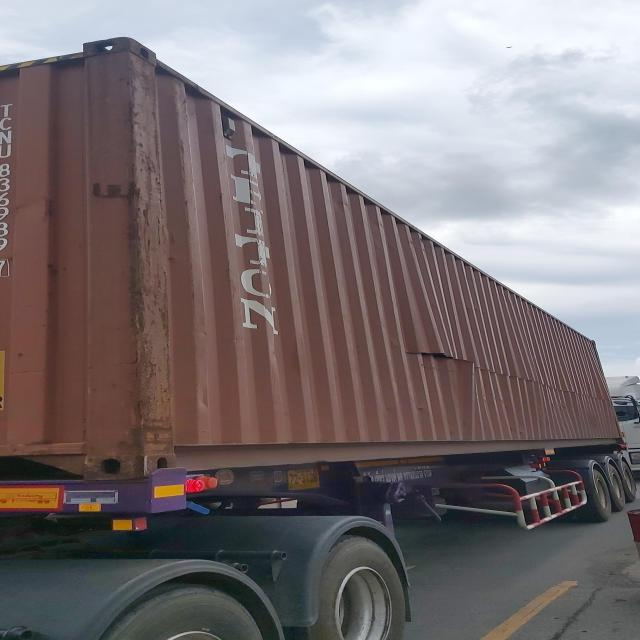hole: (408, 347, 479, 365)
